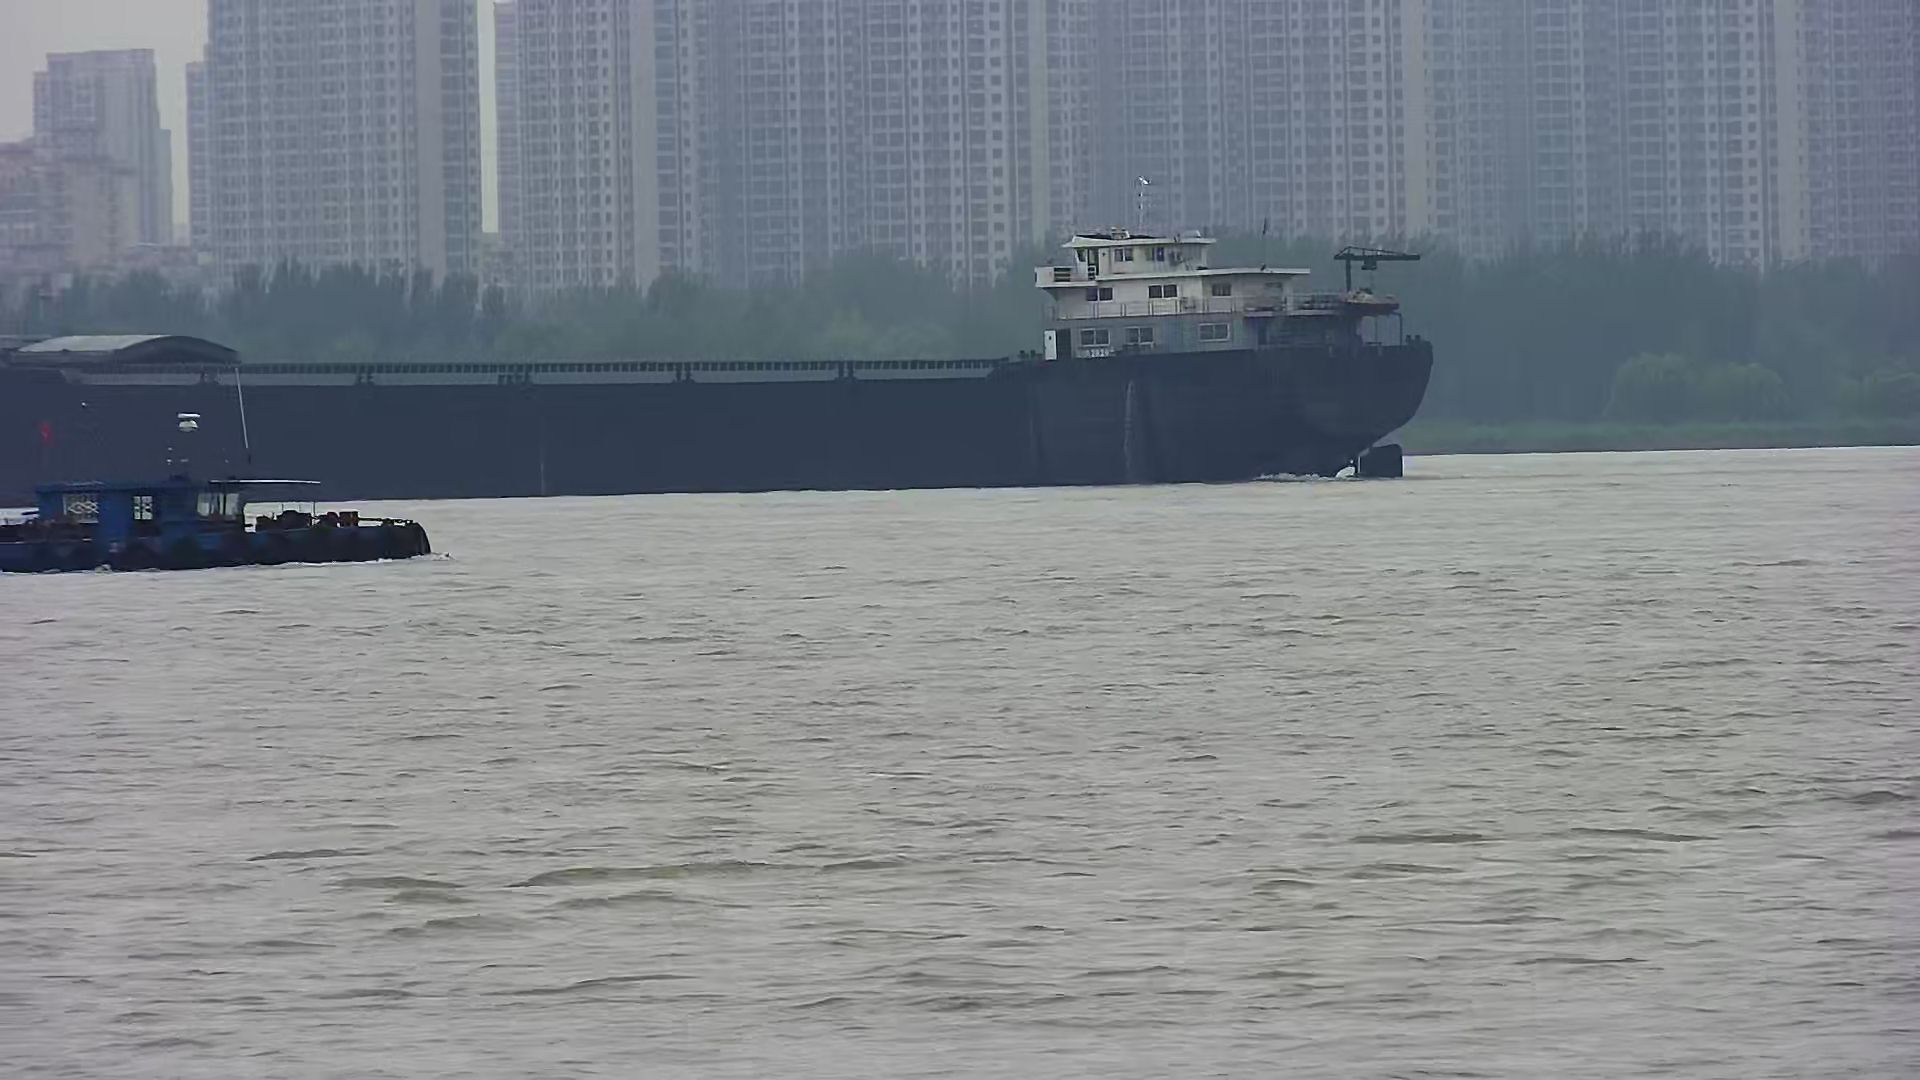ship: (1, 171, 1437, 502), (1, 414, 430, 568)
